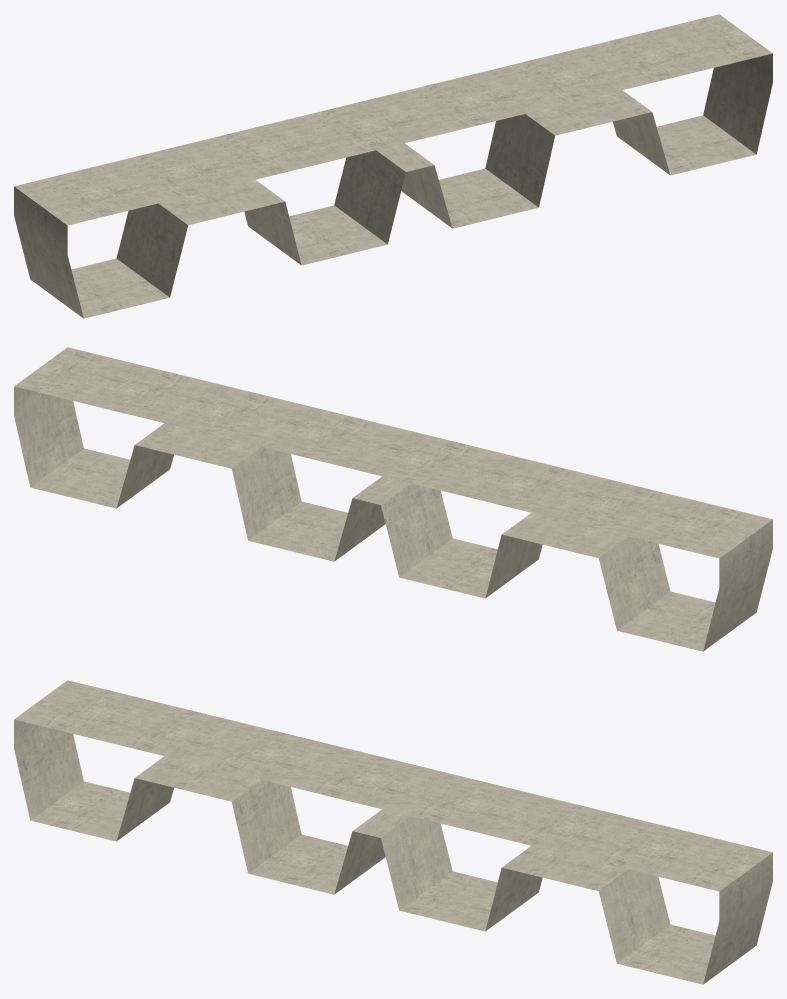
Rendered from BridgeBase3-38w-5l-5d.FBX.
The picture shows the model from 3 angles, top to bottom: view 1: azimuth 30°, elevation 25°; view 2: azimuth 150°, elevation 25°; view 3: azimuth 330°, elevation 25°; orthographic projection.
Parts seen in each view (by area): view 1: BridgeBase3-38w-5l-5d; view 2: BridgeBase3-38w-5l-5d; view 3: BridgeBase3-38w-5l-5d.
Part boxes in pixels (x1,y1,x2,y2): BridgeBase3-38w-5l-5d: (14,14,772,318); BridgeBase3-38w-5l-5d: (14,347,772,651); BridgeBase3-38w-5l-5d: (14,680,772,984).
Size of the model in its own units: 38 by 5 by 5.
